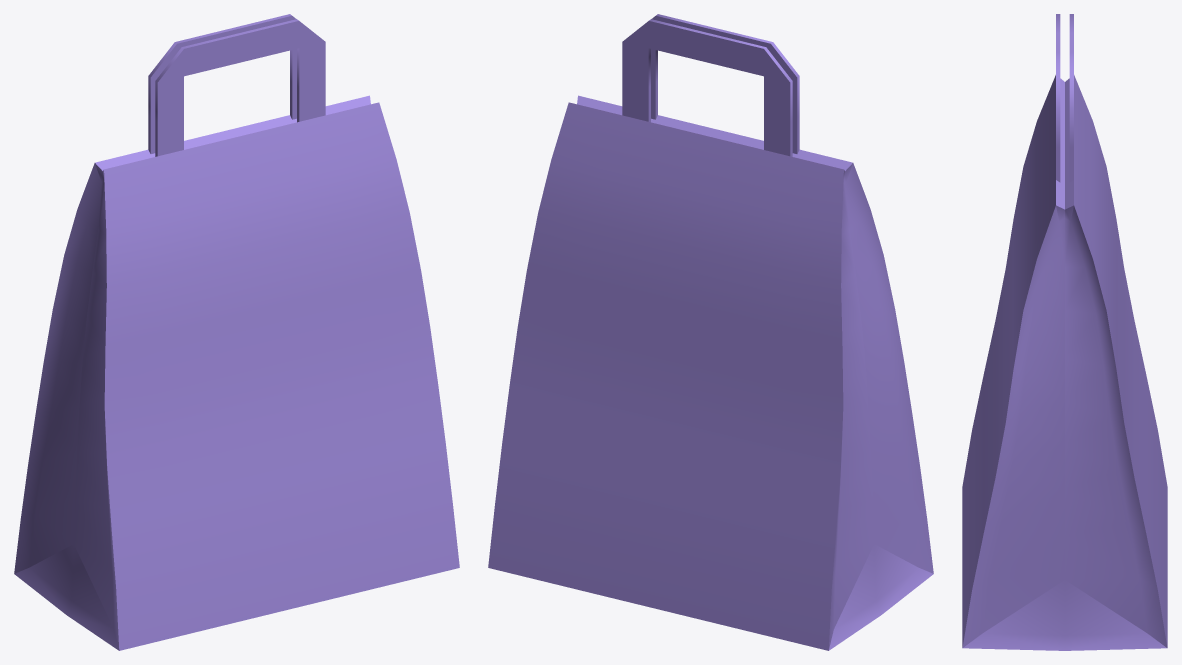
File: PROPS_OTHER_BAG_MODEL.fbx
3 renders of one model, left to right at view 1: azimuth 30°, elevation 25°; view 2: azimuth 150°, elevation 25°; view 3: azimuth 270°, elevation 25°, orthographic. The views are drawn at different scales.
Parts seen in each view (by area): view 1: PROPS_OTHER_BAG_MODEL; view 2: PROPS_OTHER_BAG_MODEL; view 3: PROPS_OTHER_BAG_MODEL.
Boxes of the visible parts, x1,y1,x2,y2 form: PROPS_OTHER_BAG_MODEL: (14, 14, 459, 650); PROPS_OTHER_BAG_MODEL: (488, 14, 933, 650); PROPS_OTHER_BAG_MODEL: (962, 14, 1167, 650).
Bounding box in the file's own units: 28.95 × 44.01 × 15.47.
